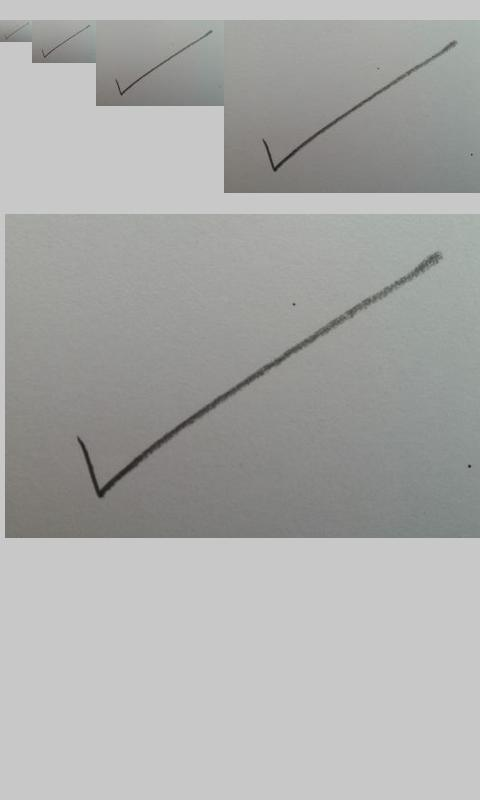check_box: (78, 252, 442, 499), (261, 39, 458, 172), (115, 30, 212, 96), (41, 25, 90, 58), (4, 25, 25, 40)
